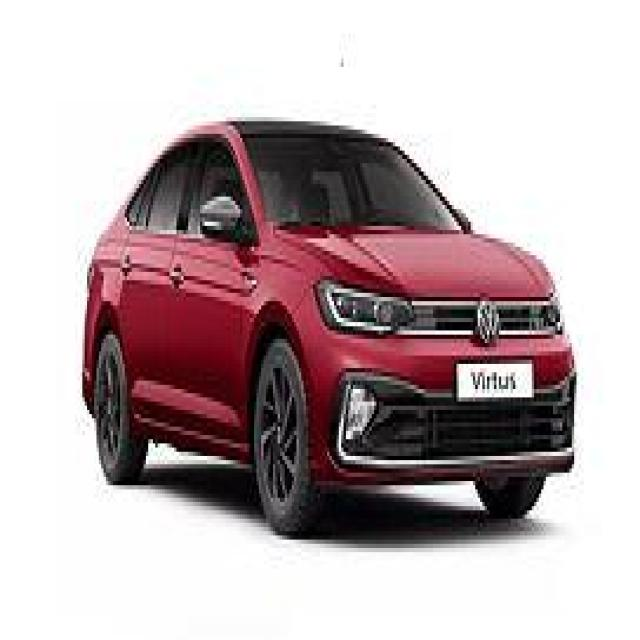cars4: (73, 106, 587, 555)
